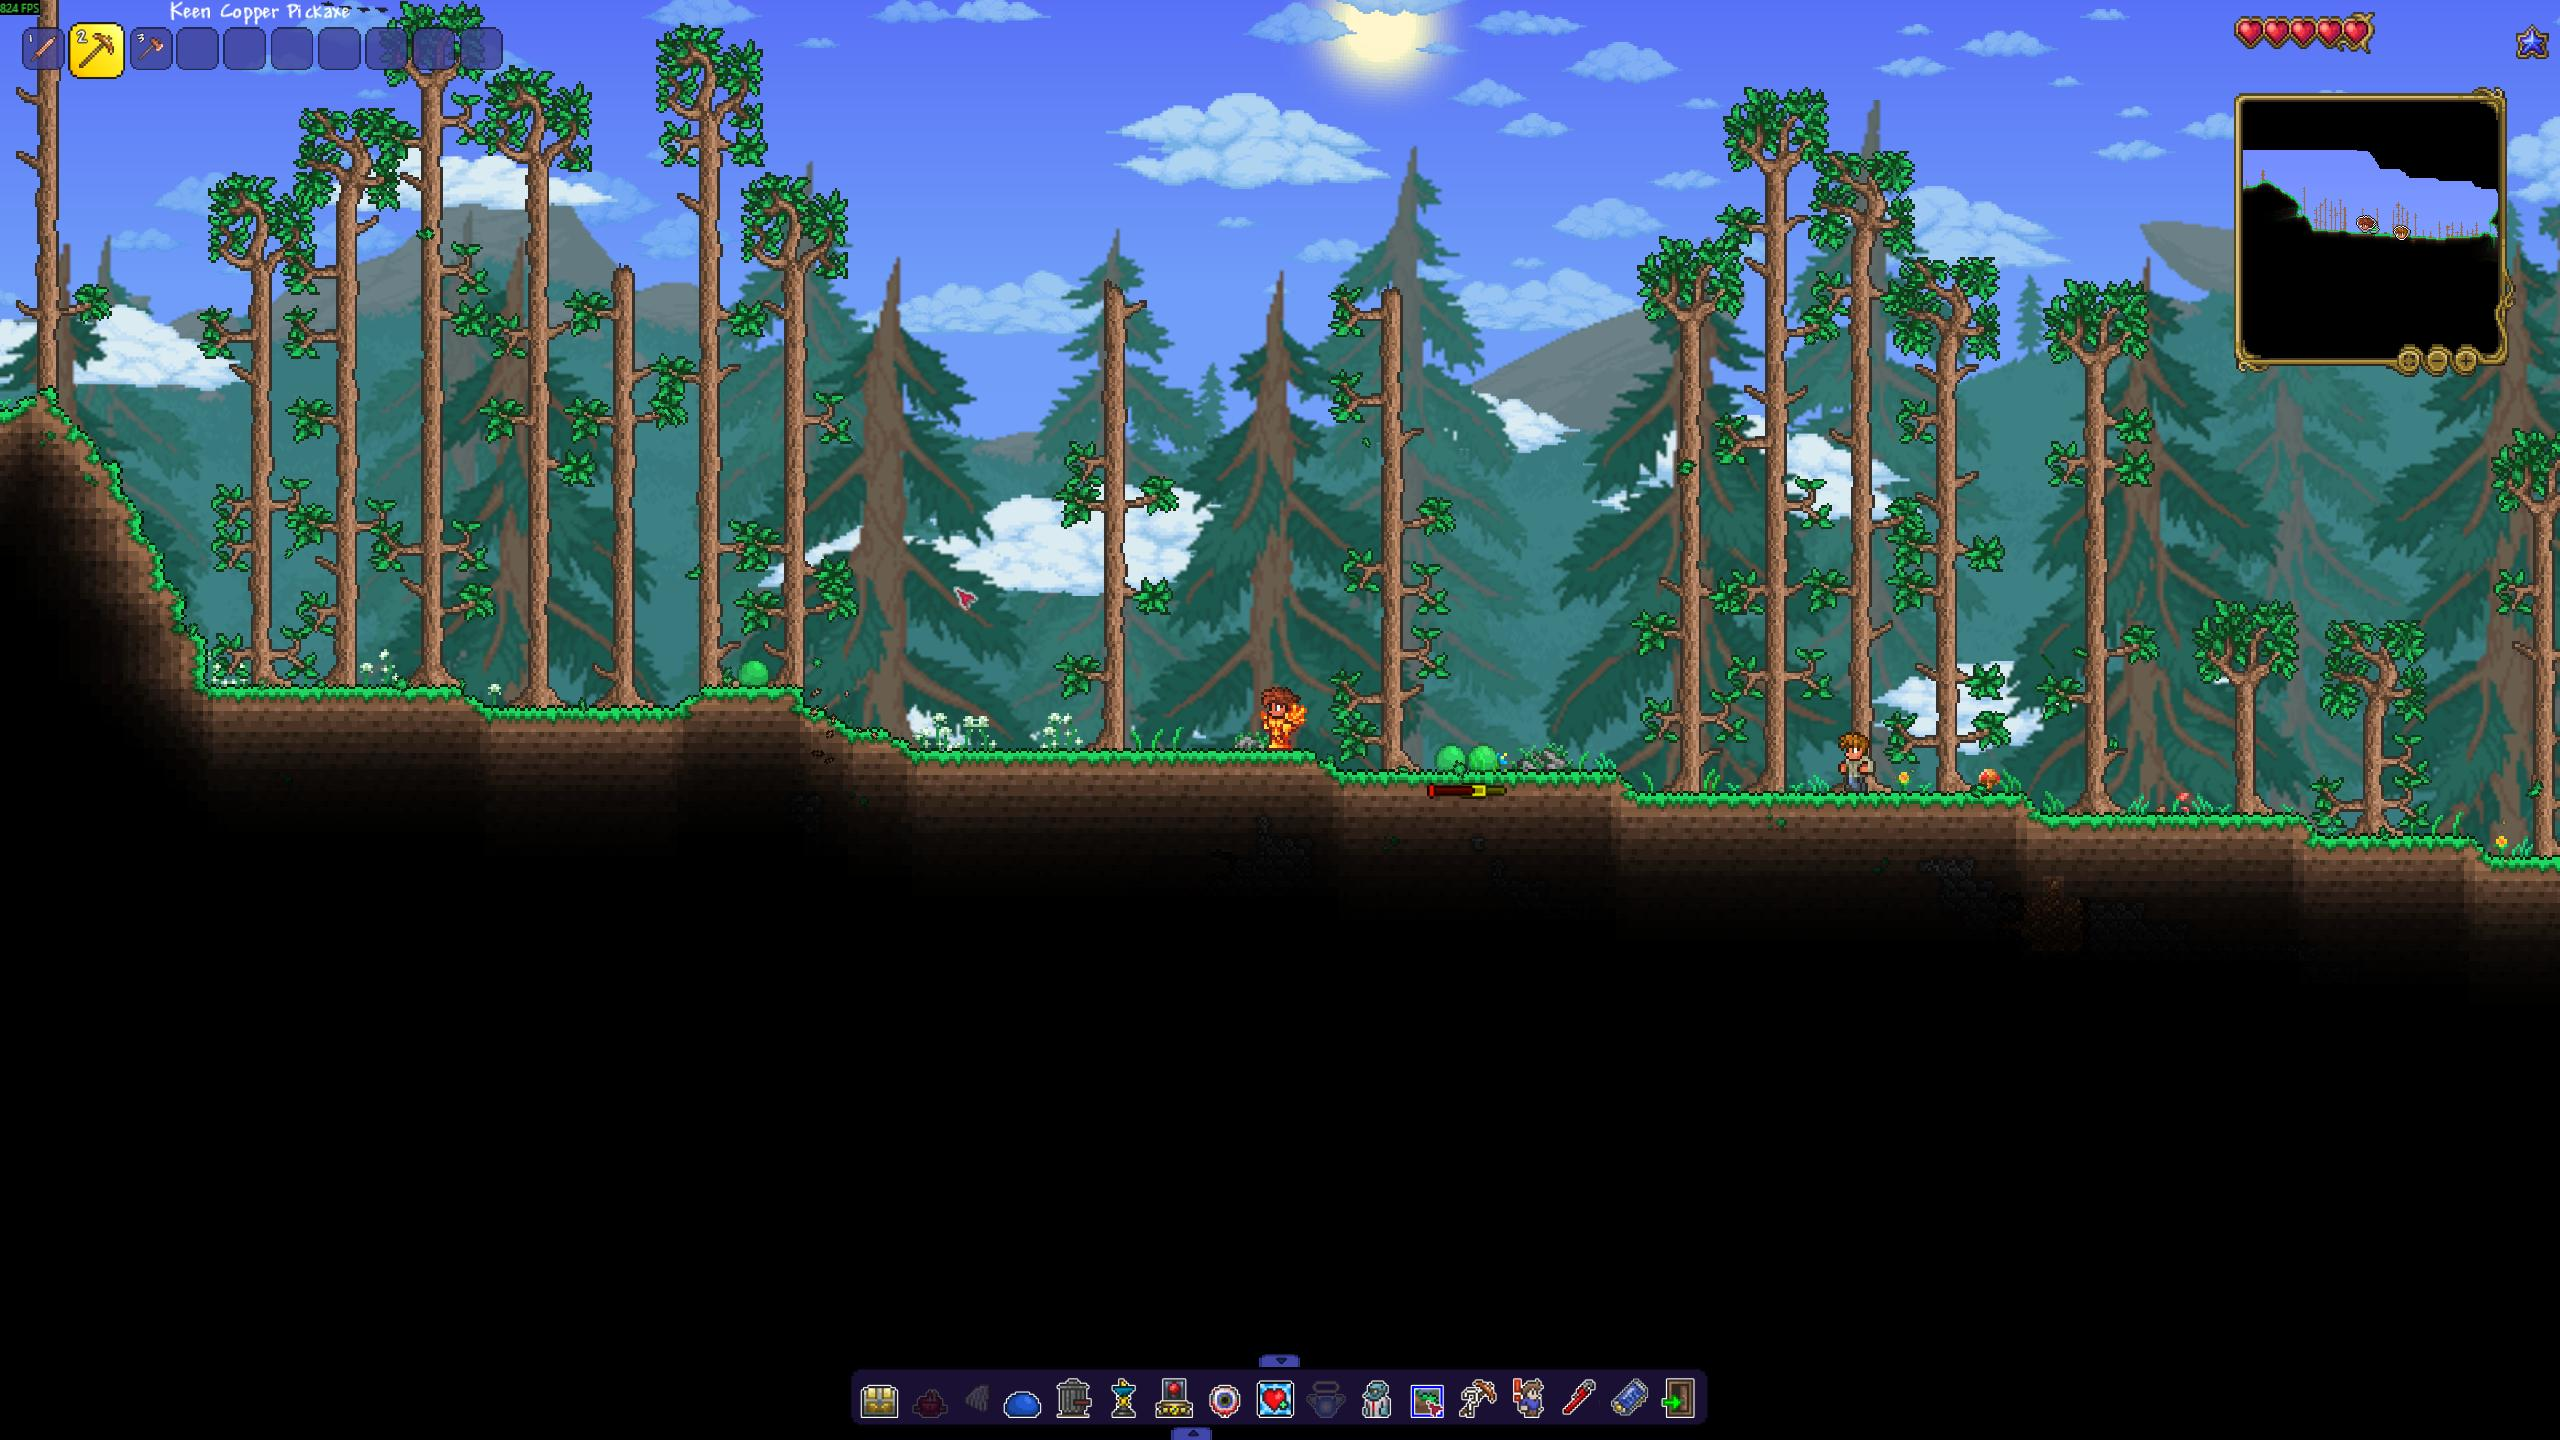Green Slime: (1431, 742, 1470, 777), (1465, 742, 1502, 775), (737, 659, 770, 689)
